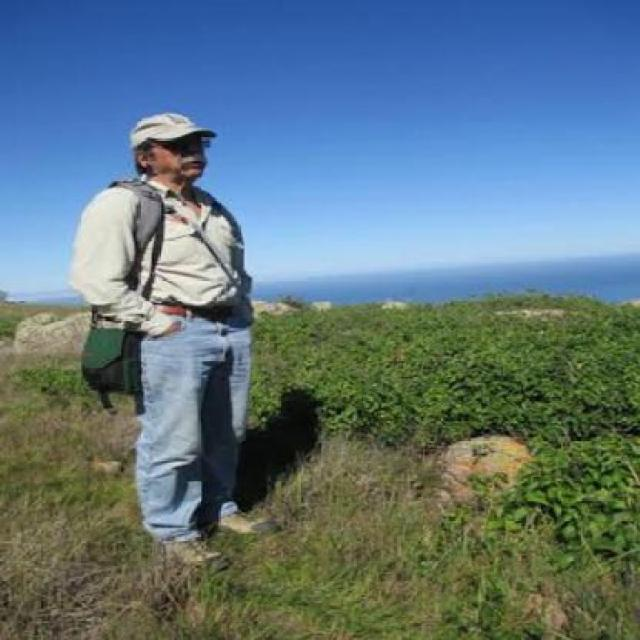backpack: (76, 318, 146, 412), (112, 175, 166, 252)
